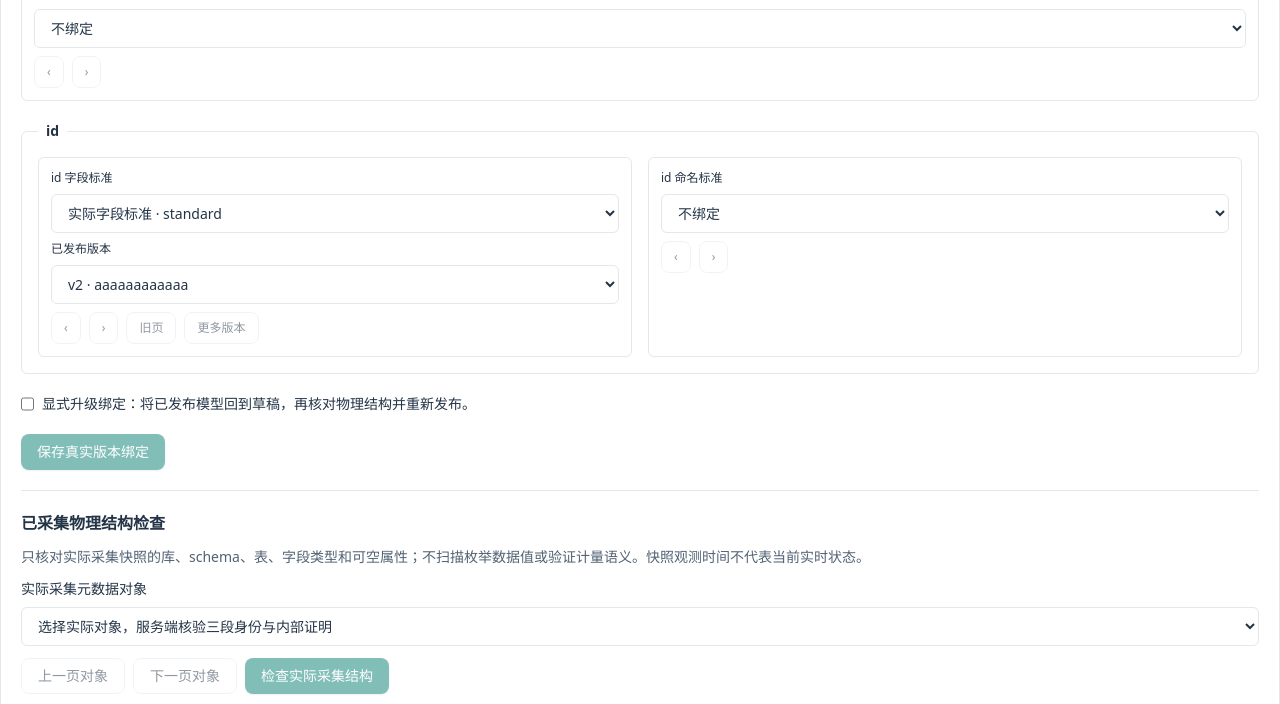
Scenario: Pinned model standards and actual collected structure › does not certify a generic resource as collected metadata when the real service rejects its proof
(page scrolled)
Select "真实采集表 · v3" in the dropdown labelled "实际采集元数据对象" at (640, 626), box [21,607,1259,646]
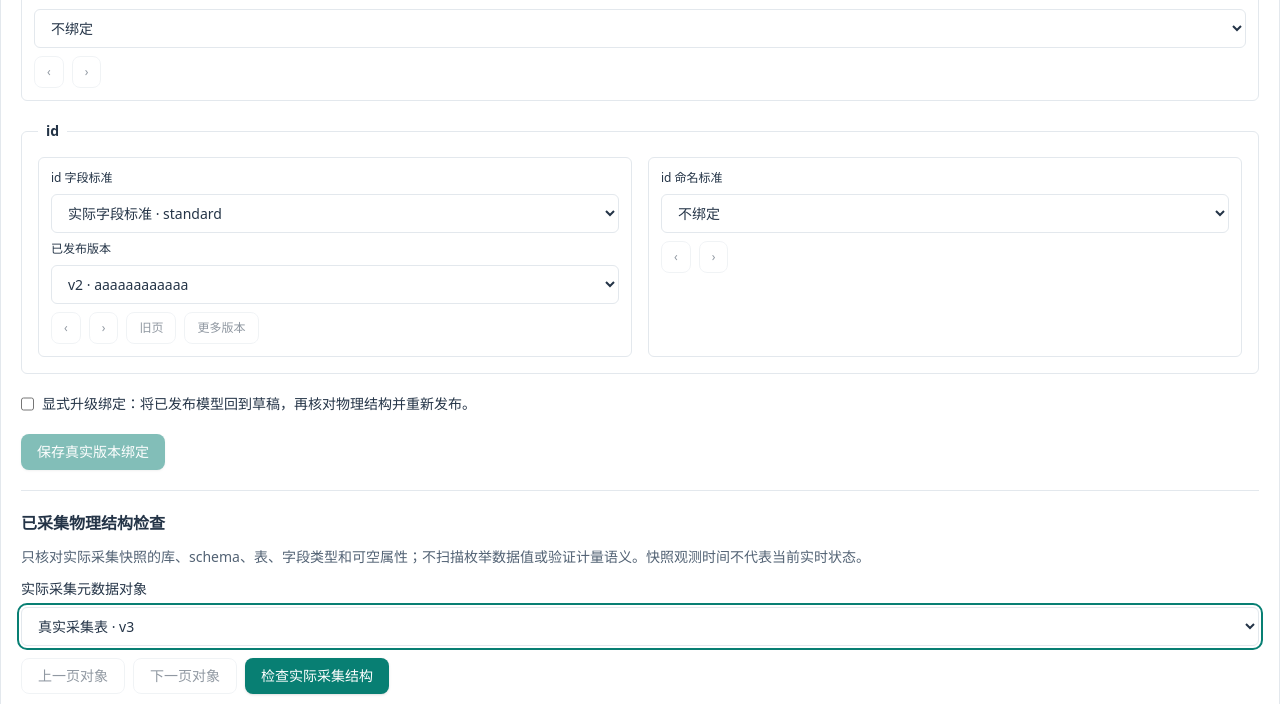
Click the button "检查实际采集结构" at (317, 676), box [245,658,389,694]
(page scrolled)
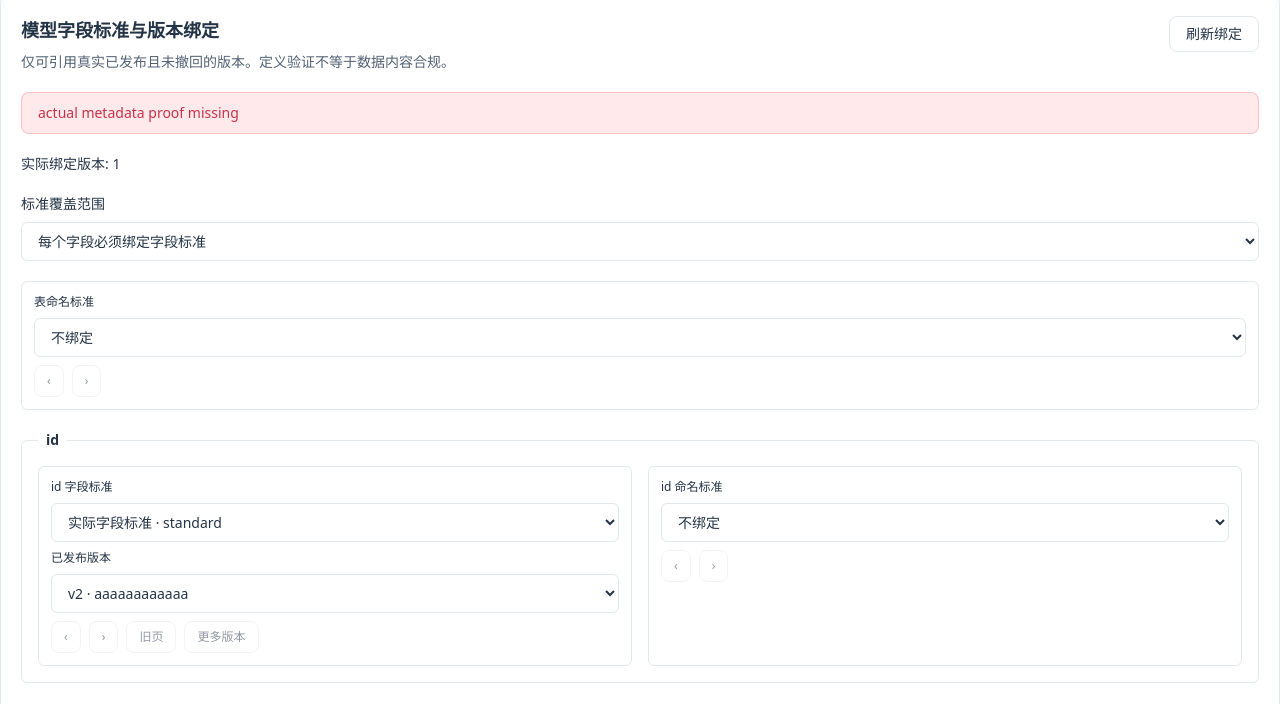
Expected: the message "actual metadata proof missing" is shown, [21,92,1259,134]
